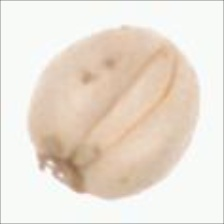L5: (69, 43, 181, 168), (33, 150, 89, 196)
L6: (24, 21, 205, 202)
